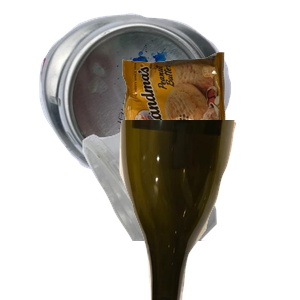glass: (117, 120, 300, 300)
metal: (37, 11, 261, 180)
plastic: (80, 120, 289, 300)
trash: (120, 50, 300, 182)
